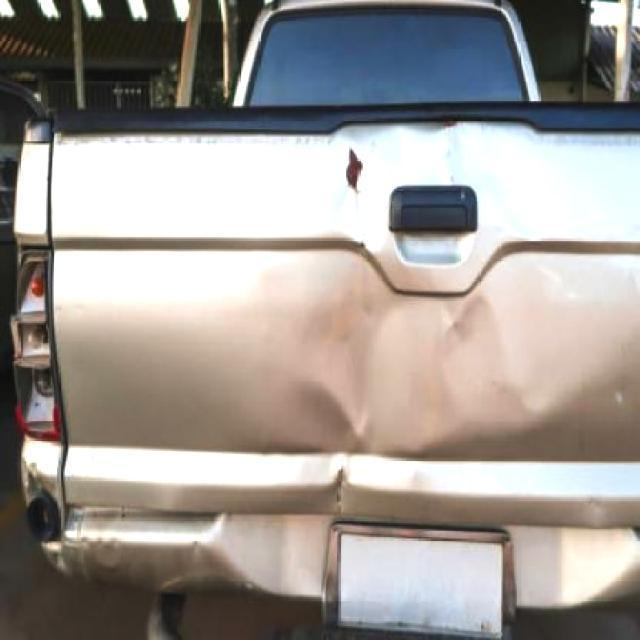minor: (272, 154, 365, 242), (272, 372, 358, 454), (323, 468, 354, 518)
moderate: (272, 248, 578, 451)
